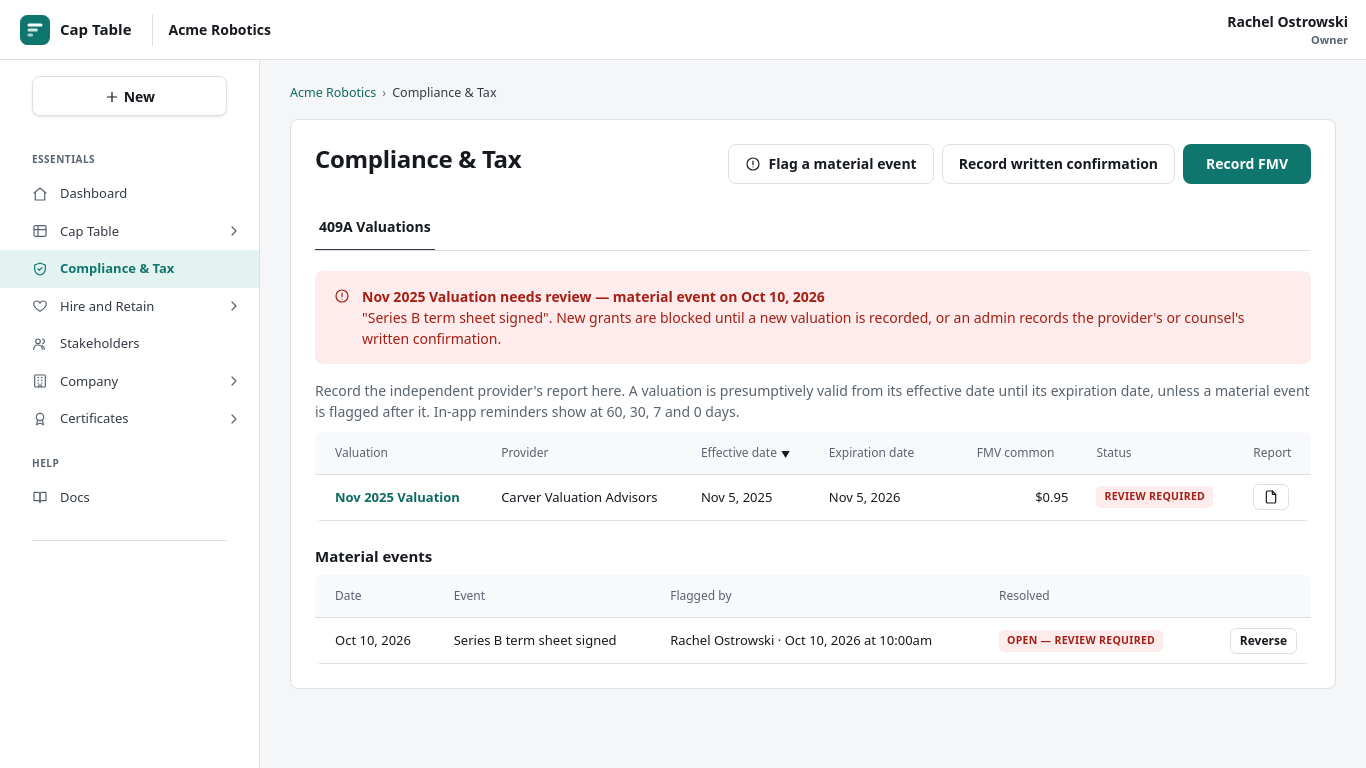
Test: 409A events › reverses a flag raised in error with a reason and the valuation's name typed
Click the button with aria-label "Reverse the material event “Series B term sheet signed”".
click(1263, 641)  # box [1230, 628, 1297, 654]
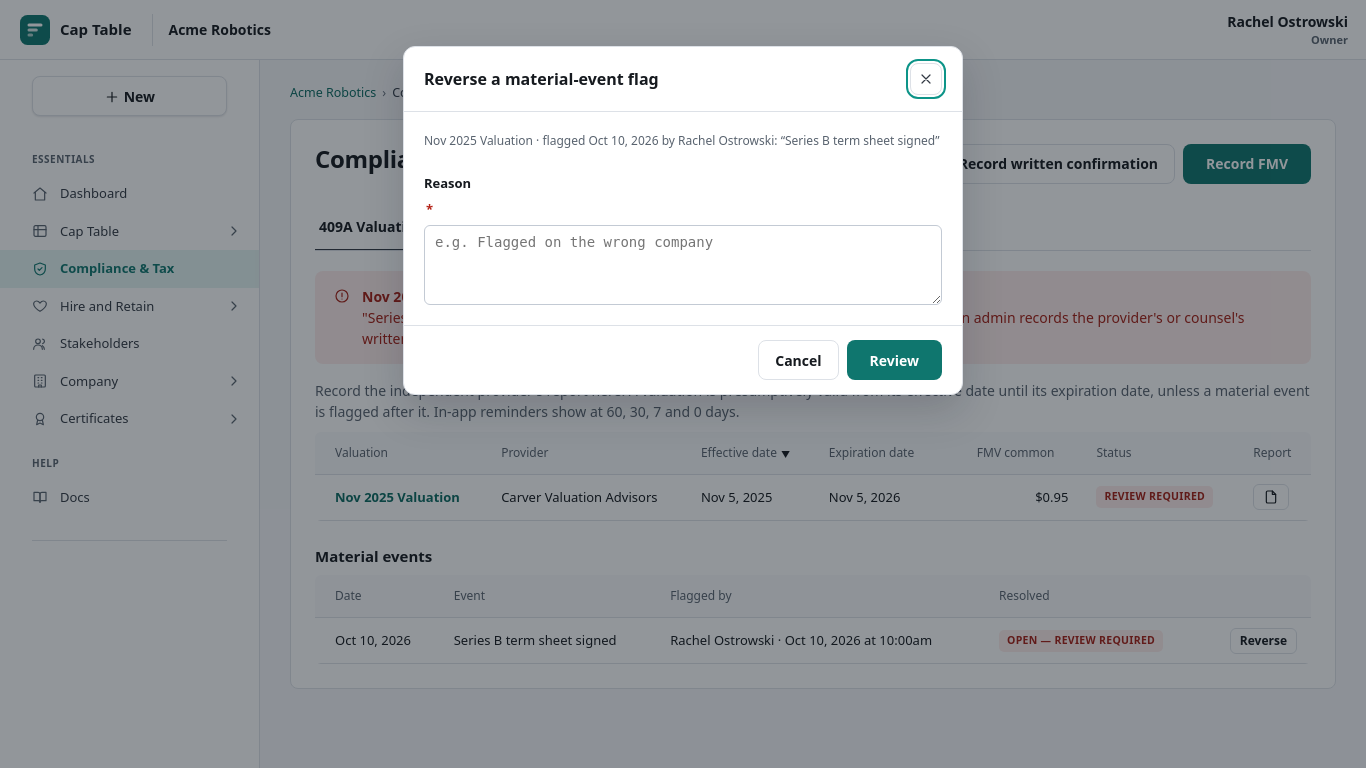
Now the dialog "Reverse a material-event flag" is shown, box [403, 46, 963, 395]
Type "Flagged on the wrong company" into the text box labelled "Reason *".
click(683, 265); type("Flagged on the wrong company")  # box [424, 225, 942, 305]
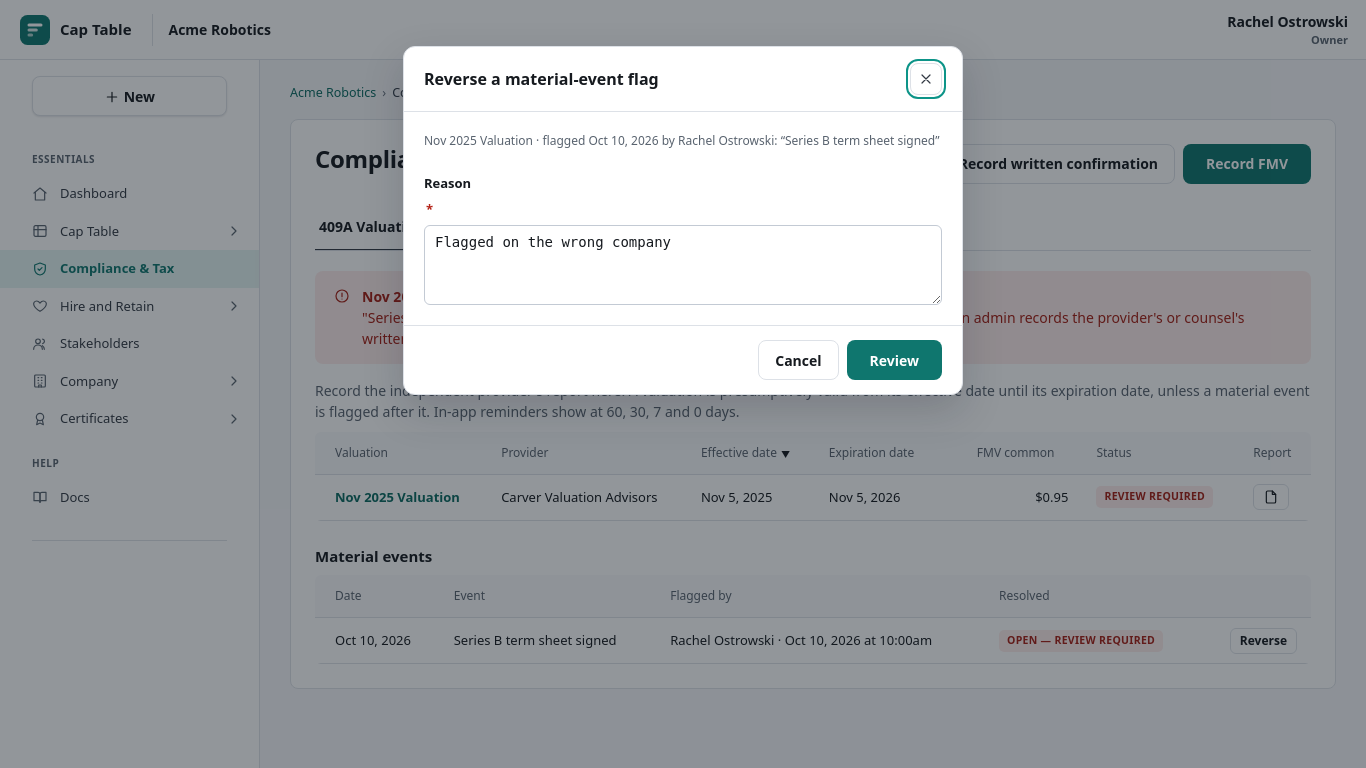
Click the button "Review".
click(894, 360)  # box [846, 340, 942, 380]
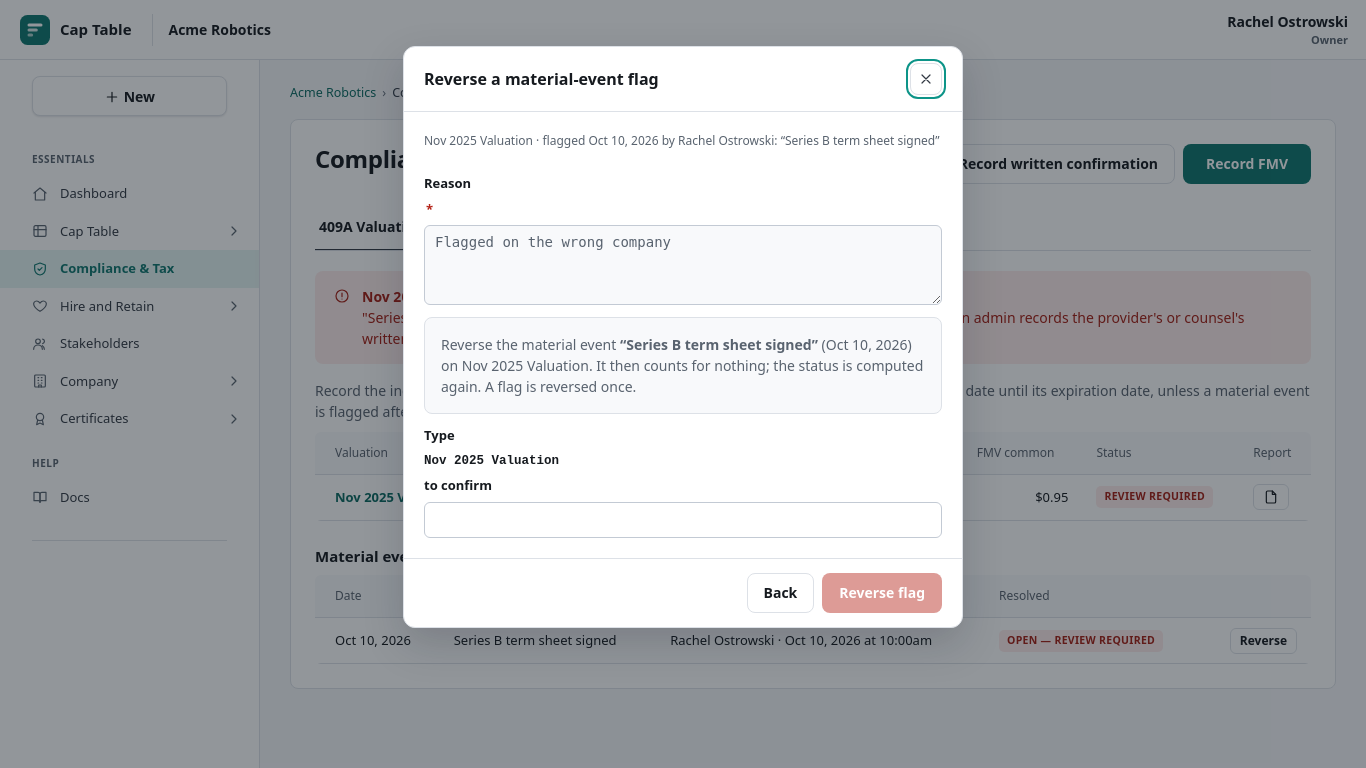
Now the button "Reverse flag" is disabled, box [822, 573, 942, 613]
Type "Nov 2025 Valuation" into the field labelled "Type Nov 2025 Valuation to confirm".
click(683, 520); type("Nov 2025 Valuation")  # box [424, 502, 942, 538]
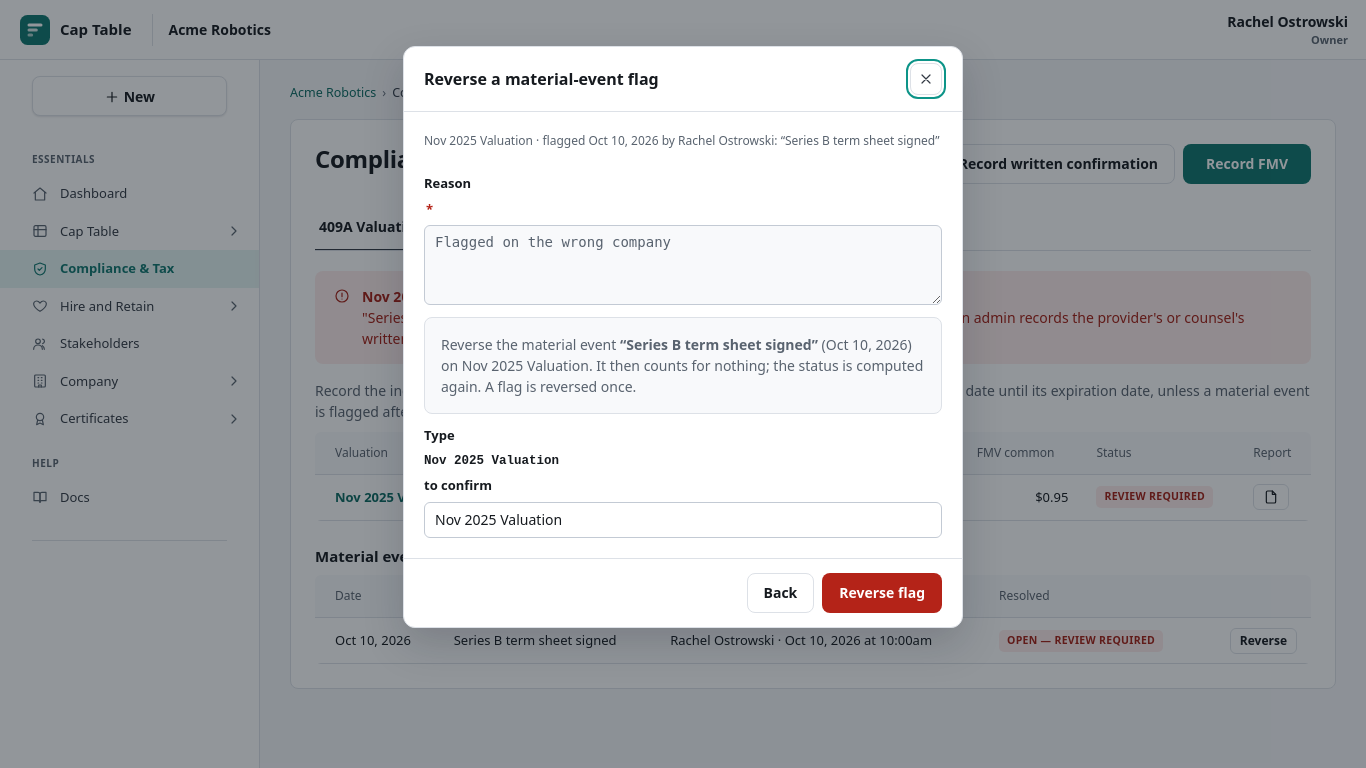
Click the button "Reverse flag".
click(882, 593)  # box [822, 573, 942, 613]
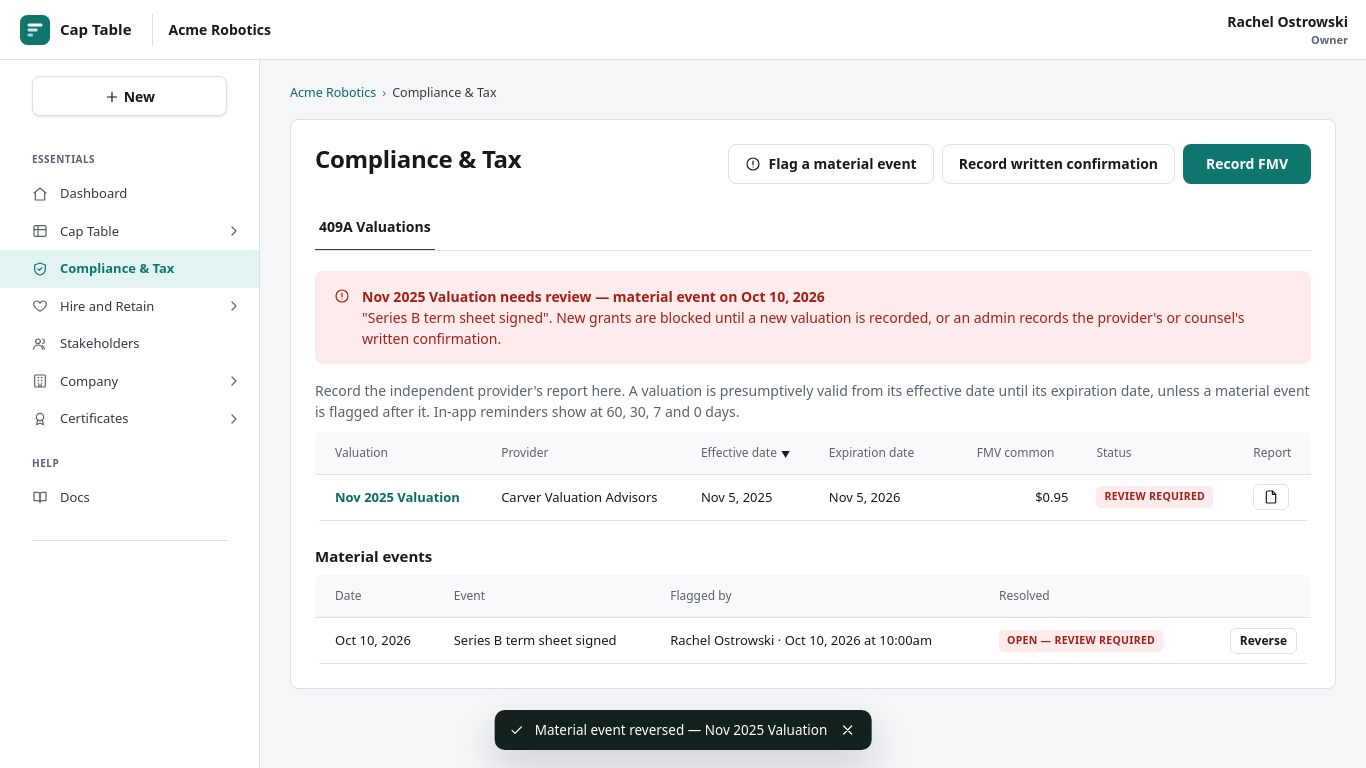
Now the text "Material event reversed — Nov 2025 Valuation" is shown, box [535, 720, 827, 740]
